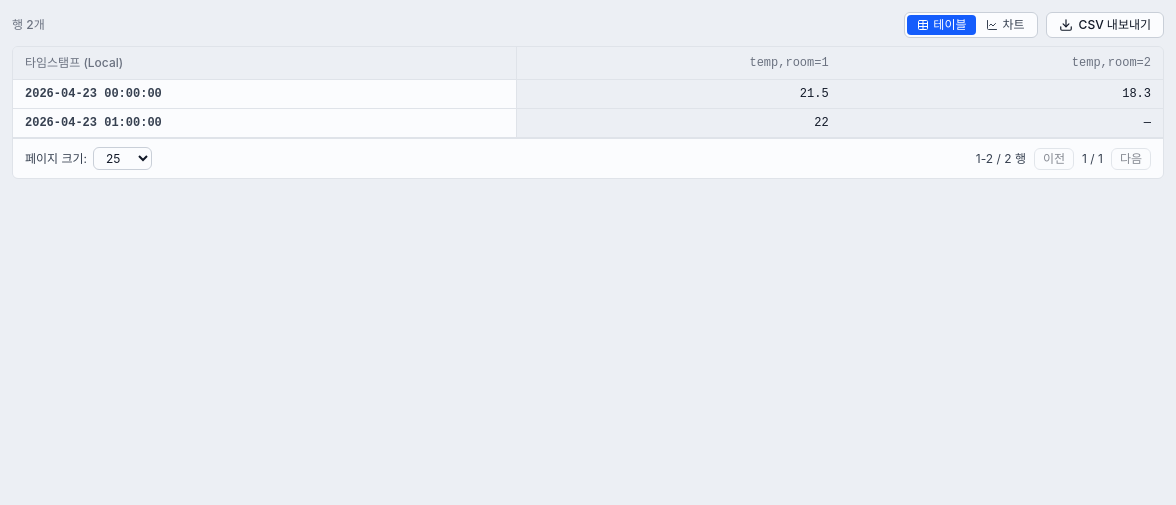
Scenario: SeriesResultMatrix: 페이지네이션 › 차트 모드에서 다시 테이블 탭 클릭 시 테이블이 복원된다
Step 1. Click the tab with test id "tsdb-result-view-chart" → (1006,25), box [976,15,1035,35]
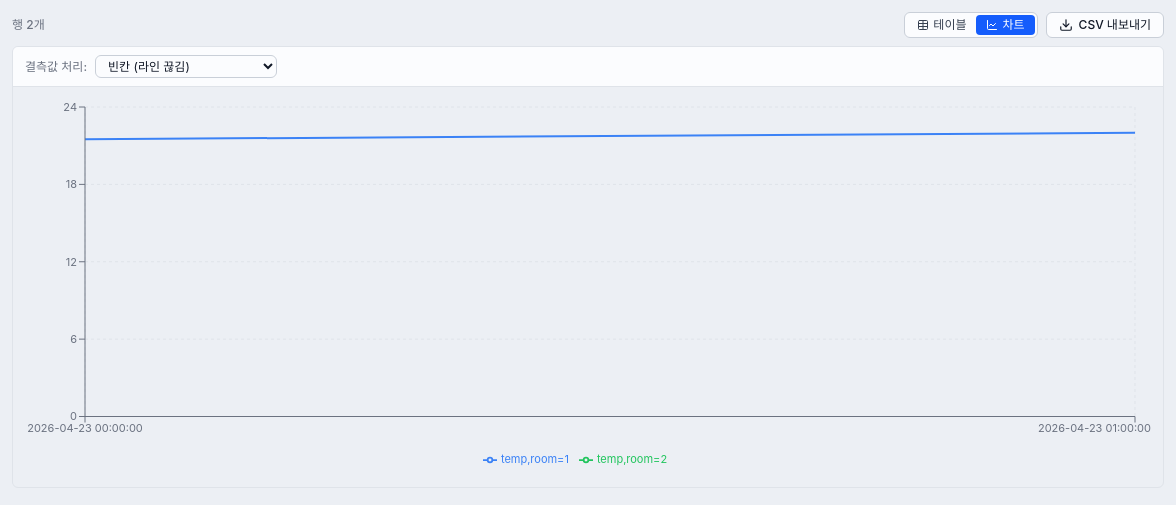
Step 2. Click the tab with test id "tsdb-result-view-table" → (942,25), box [907,15,976,35]
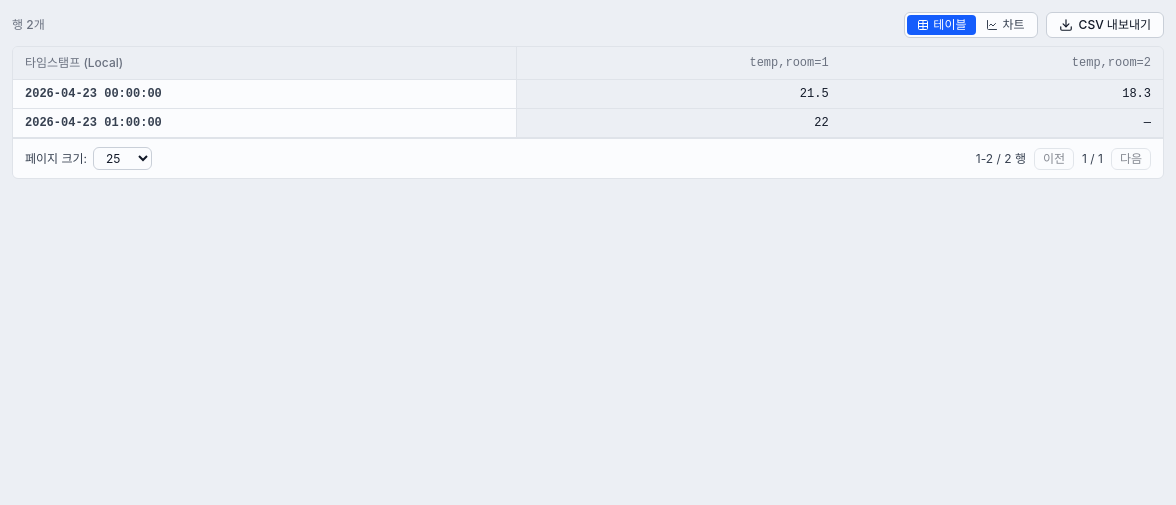
Check: the table is shown, box [13,47,1163,138]
Check: the element with test id "tsdb-result-chart" is gone
